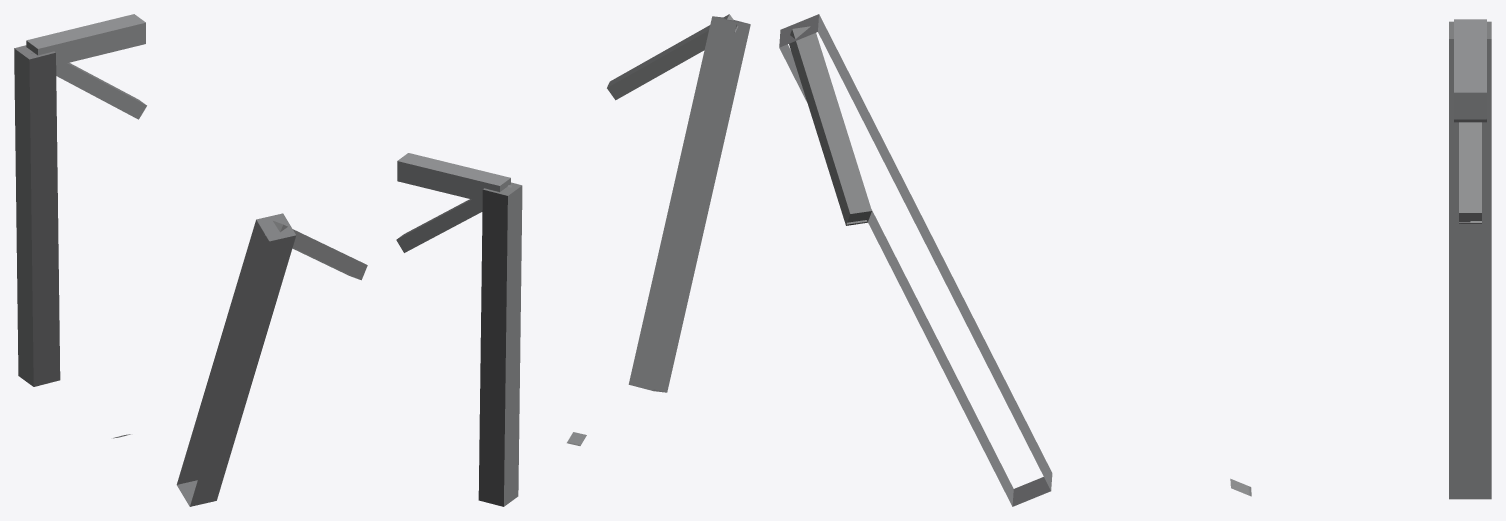
3 views of the same model, side by side, from view 1: azimuth 30°, elevation 25°; view 2: azimuth 150°, elevation 25°; view 3: azimuth 270°, elevation 25° (orthographic). The views are drawn at different scales.
Size of the model in its own units: 0.3027 by 0.7975 by 1.09.
